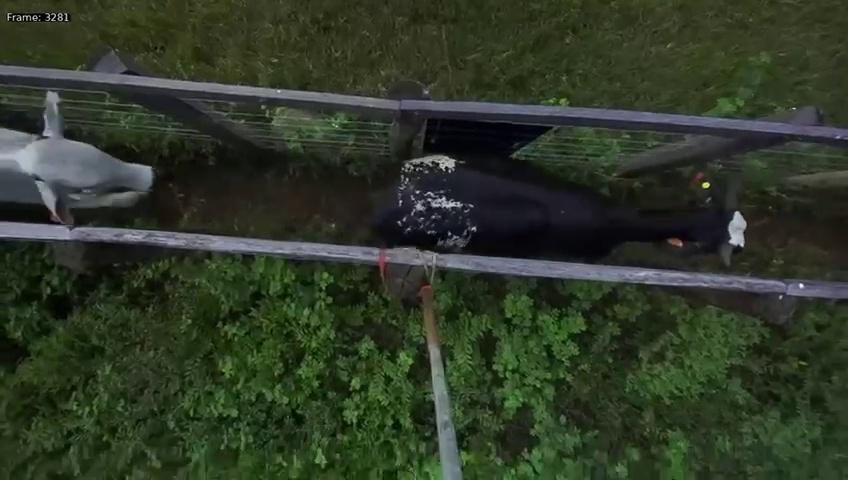cattle: (373, 144, 755, 278)
